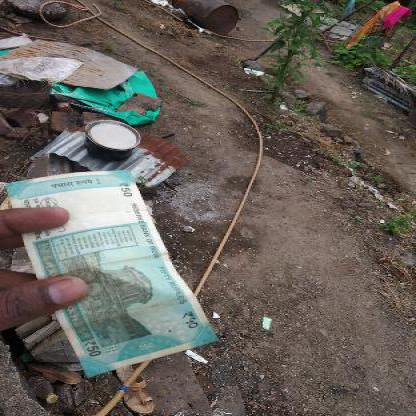New50Back: (8, 174, 219, 372)
